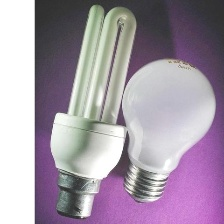light_bulb: (46, 0, 140, 221), (118, 53, 218, 207)
